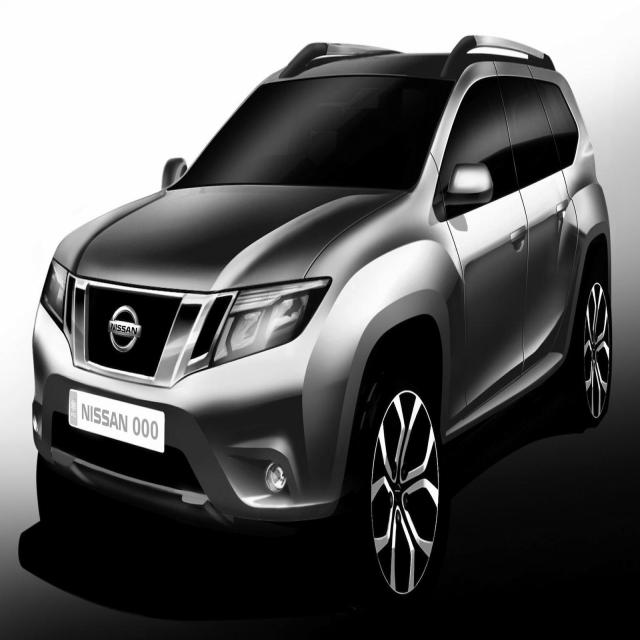car: (19, 9, 623, 611), (64, 382, 174, 452)
